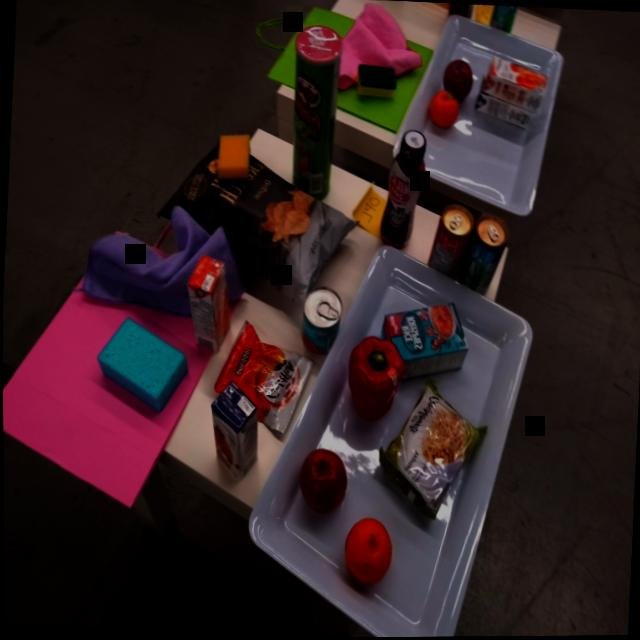apple: (292, 445, 353, 518), (441, 58, 475, 98)
cereal: (373, 297, 469, 387)
chocolate_drink: (375, 126, 431, 261)
coke: (423, 201, 476, 283)
grape_juice: (206, 382, 262, 483)
noodles: (371, 376, 490, 528)
orange: (341, 513, 395, 588), (427, 88, 462, 133)
orange_juice: (181, 253, 237, 357), (481, 54, 549, 105)
paprika: (341, 333, 408, 429)
pringles: (284, 22, 345, 204)
sausages: (295, 283, 346, 359)
scrubby: (214, 128, 254, 187), (355, 62, 398, 101)
sponge_opl: (91, 311, 194, 420)
sprite: (456, 211, 512, 300)
